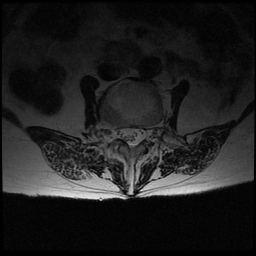CCS_normal: (127, 120, 136, 159)
LFS_normal: (146, 118, 155, 150)
LLS_normal: (137, 119, 146, 148)
RFS_normal: (110, 115, 119, 146)
RLS_normal: (119, 119, 127, 150)
